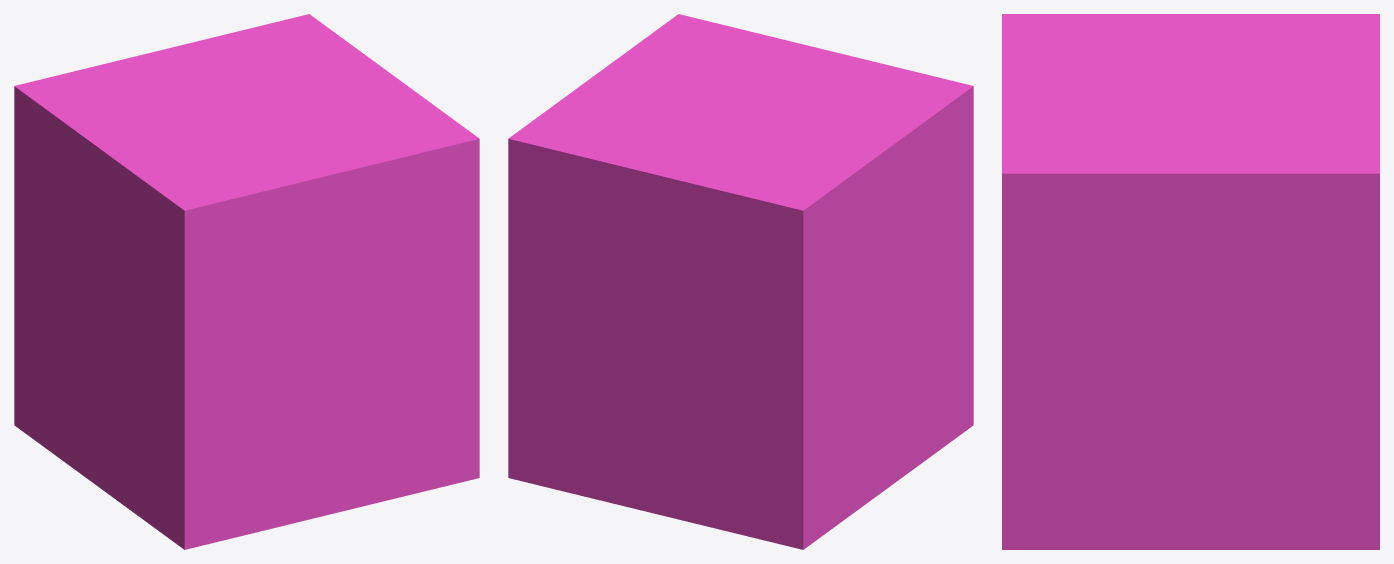
File: wind_blower.glb
The picture shows the model from 3 angles, left to right: view 1: azimuth 30°, elevation 25°; view 2: azimuth 150°, elevation 25°; view 3: azimuth 270°, elevation 25°; orthographic projection. The views are drawn at different scales.
Parts seen in each view (by area): view 1: COL_BOX_BODY; view 2: COL_BOX_BODY; view 3: COL_BOX_BODY.
Part boxes in pixels (x1,y1,x2,y2): COL_BOX_BODY: (14,14,479,549); COL_BOX_BODY: (508,14,973,549); COL_BOX_BODY: (1002,14,1379,549).
Size of the model in its own units: 1.22 by 1.34 by 1.22.
